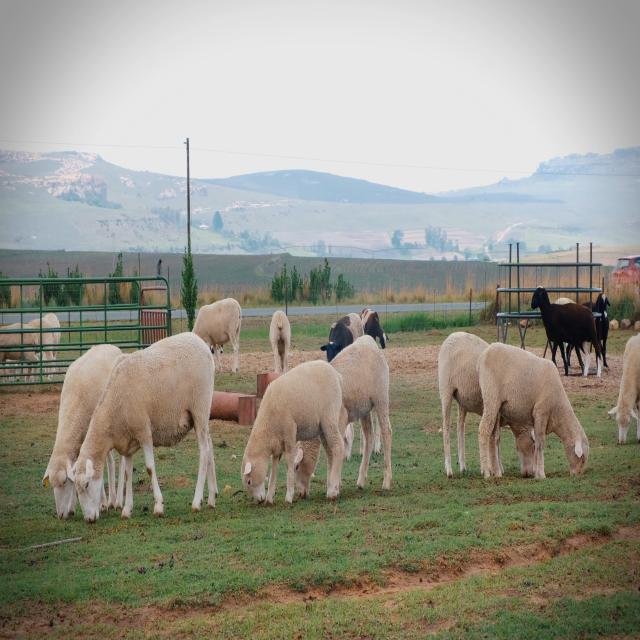sheep: (75, 339, 221, 538), (468, 322, 592, 501), (236, 348, 347, 520), (39, 376, 72, 526), (606, 323, 640, 450)
